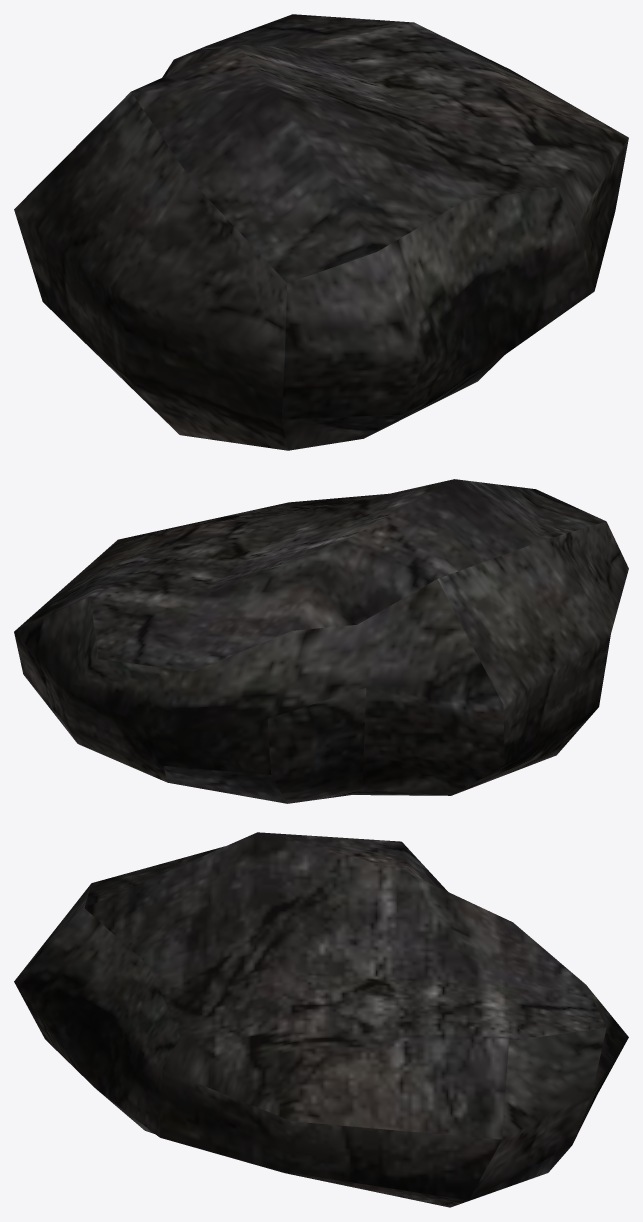
Rendered from Rock 3.glb.
The picture shows the model from 3 angles, top to bottom: view 1: azimuth 30°, elevation 25°; view 2: azimuth 150°, elevation 25°; view 3: azimuth 270°, elevation 25°; orthographic projection. The views are drawn at different scales.
Visible parts, largest first — view 1: rock_3_low; view 2: rock_3_low; view 3: rock_3_low.
Boxes of the visible parts, x1=… form: rock_3_low: x1=14, y1=14, x2=628, y2=450; rock_3_low: x1=14, y1=479, x2=628, y2=803; rock_3_low: x1=14, y1=832, x2=628, y2=1207.
Bounding box in the file's own units: 0.1045 × 0.0561 × 0.1151.
Materials: 1 (1 with a texture image).
